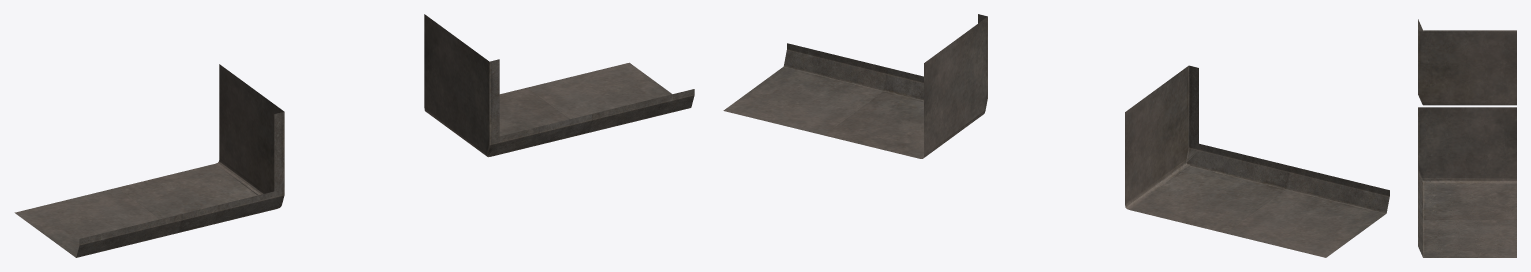
The model's file is dado_door_recessed_small_01.gltf.
The picture shows the model from 3 angles, left to right: view 1: azimuth 30°, elevation 25°; view 2: azimuth 150°, elevation 25°; view 3: azimuth 270°, elevation 25°; orthographic projection. The views are drawn at different scales.
Visible parts, largest first — view 1: dado_door_recessed_small_01; view 2: dado_door_recessed_small_01; view 3: dado_door_recessed_small_01.
Boxes of the visible parts, x1,y1,x2,y2 form: dado_door_recessed_small_01: (14,14,694,257); dado_door_recessed_small_01: (723,14,1389,257); dado_door_recessed_small_01: (1418,19,1516,257).
Bounding box in the file's own units: 3 × 0.46 × 0.55.
Materials: 1 (1 with a texture image).
